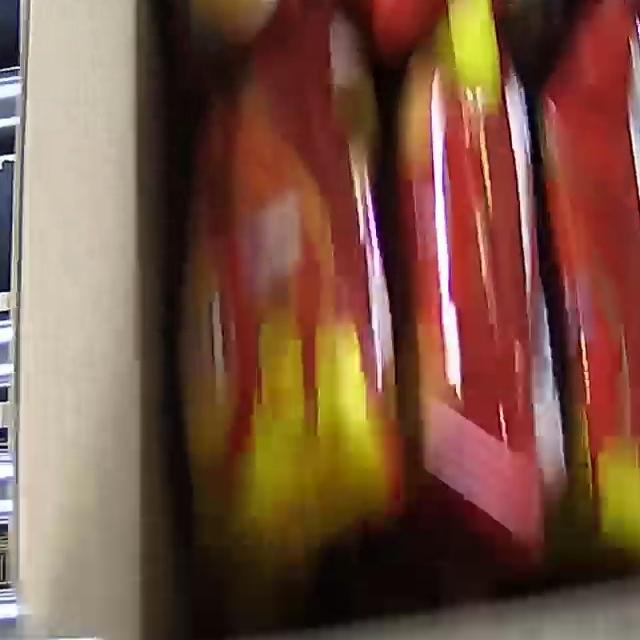masala: (142, 0, 640, 515)
